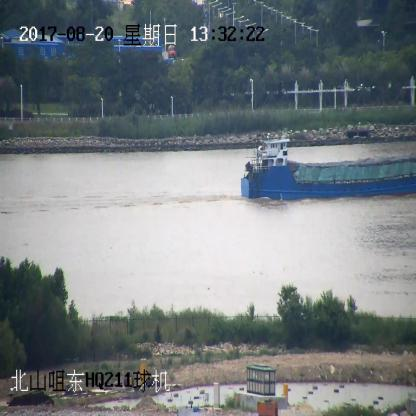Bulk Carrier: (240, 132, 416, 196)
